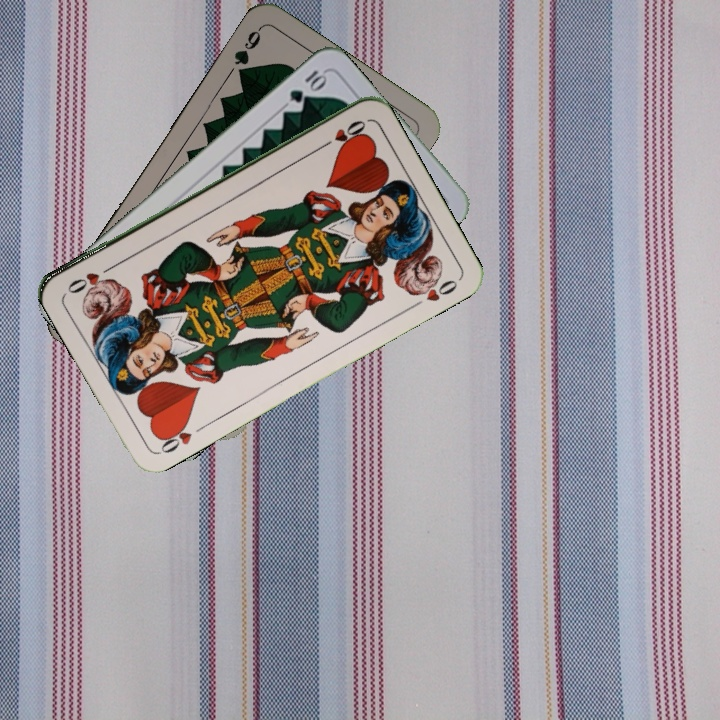G10: (285, 65, 329, 106)
G9: (229, 24, 264, 82)
HO: (315, 115, 369, 152), (154, 417, 195, 457)
